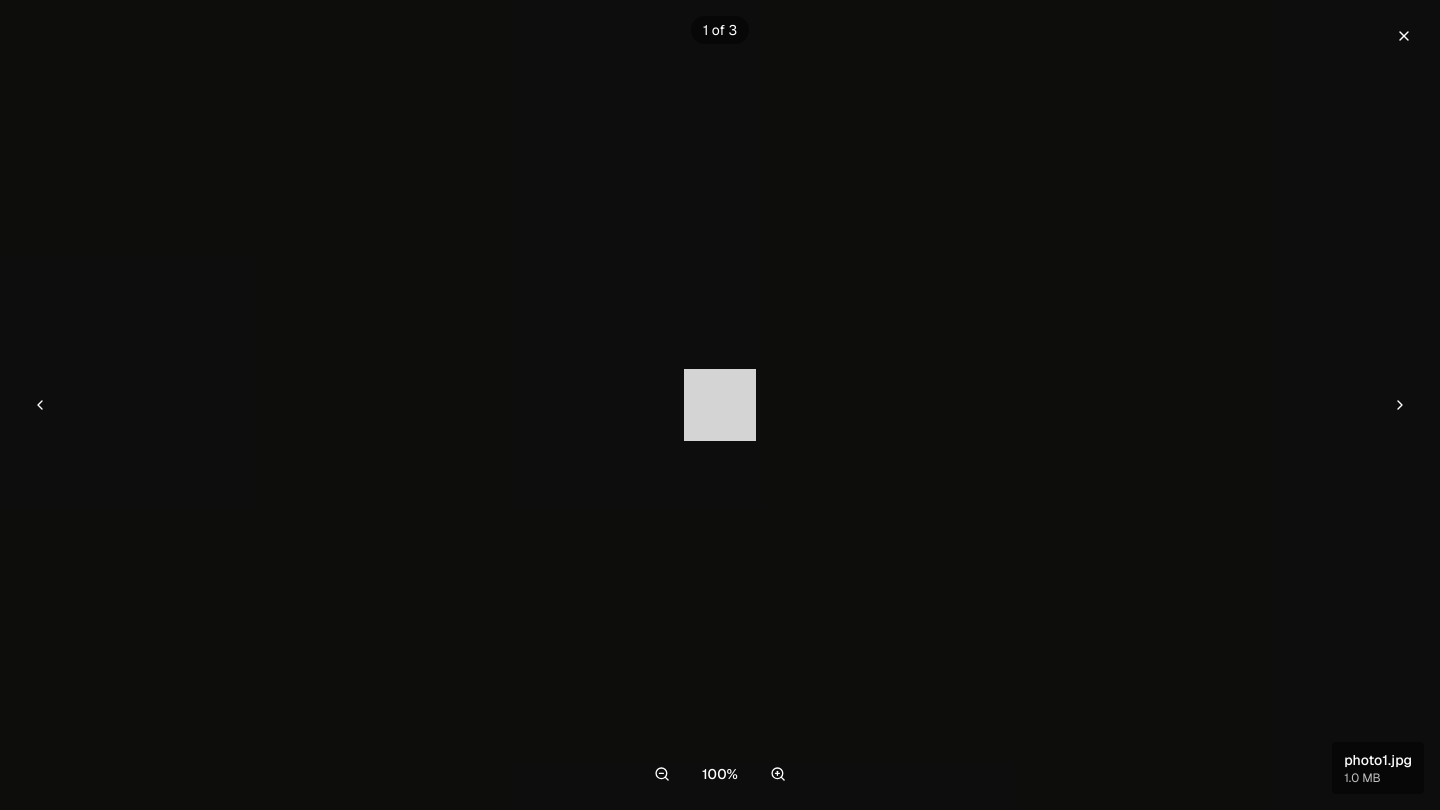
Scenario: PhotoLightbox › Zoom Controls › zooms out when zoom out button is clicked
First zoom in
Click the button named "Zoom in" at coordinates (778, 774), box [758,754,798,794]
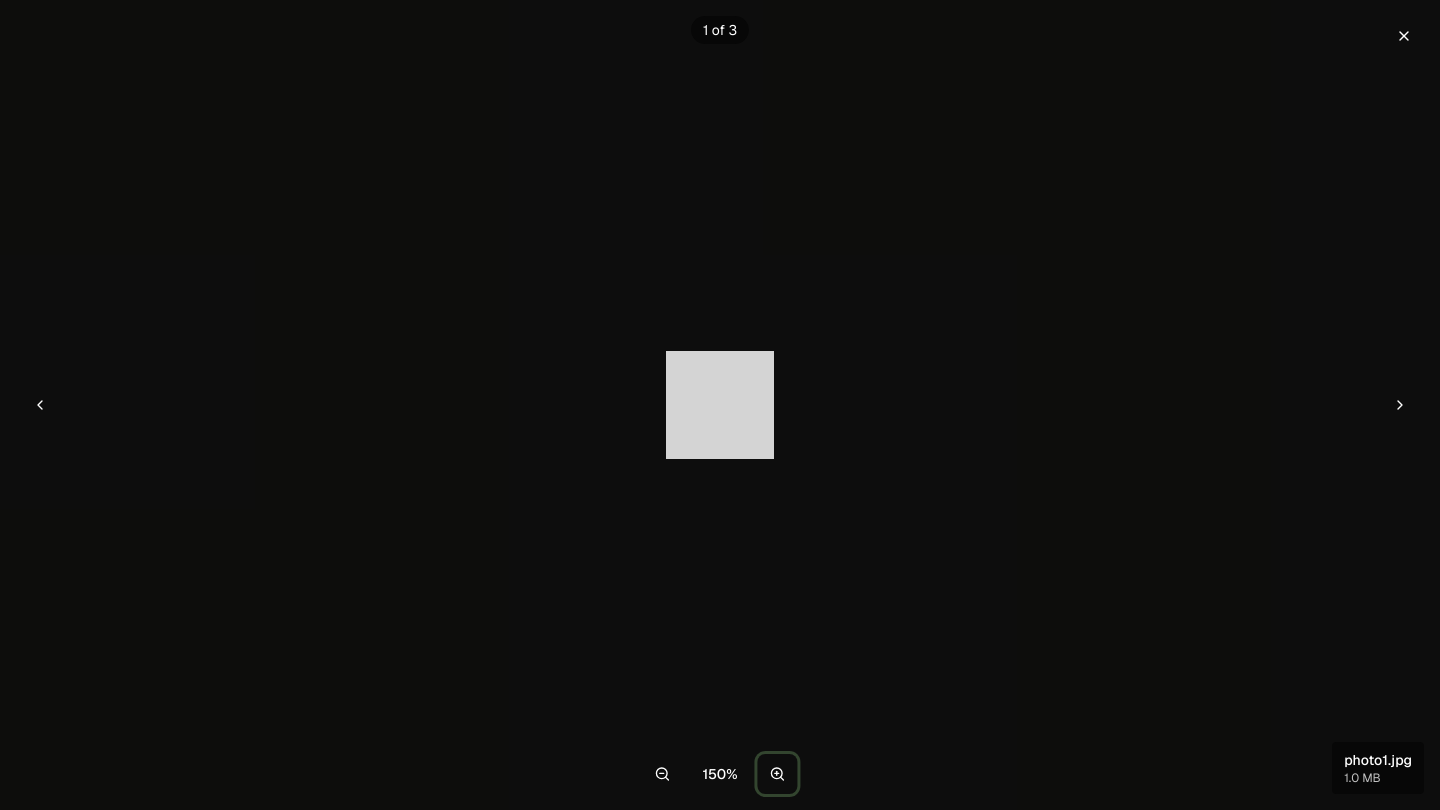
Check: the button "150%" is shown, box [690,754,750,794]
Then zoom out
Click the button named "Zoom out" at coordinates (662, 774), box [642,754,682,794]
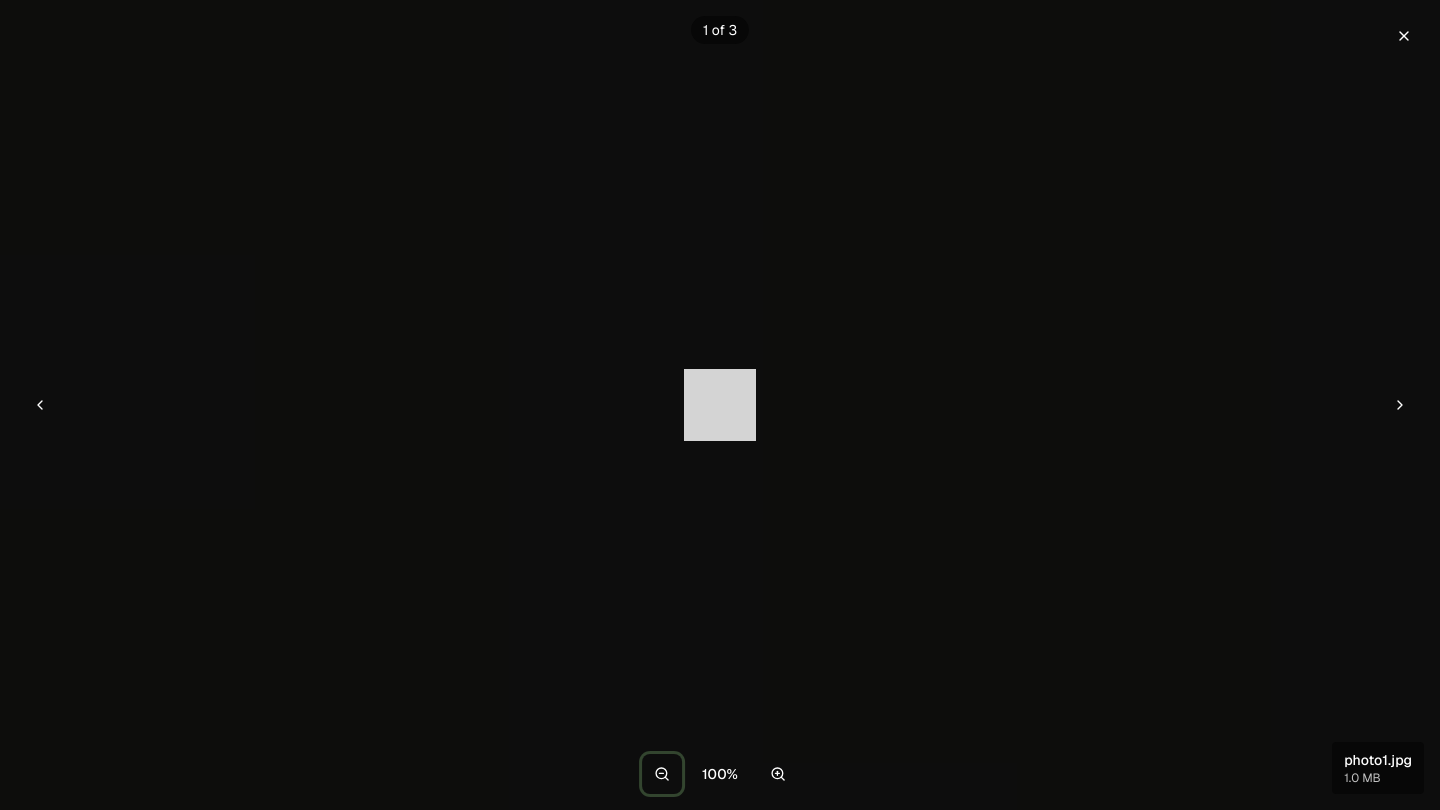
Check: the button "100%" is shown, box [690,754,750,794]
